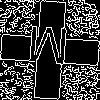M: (25, 25, 70, 74)
